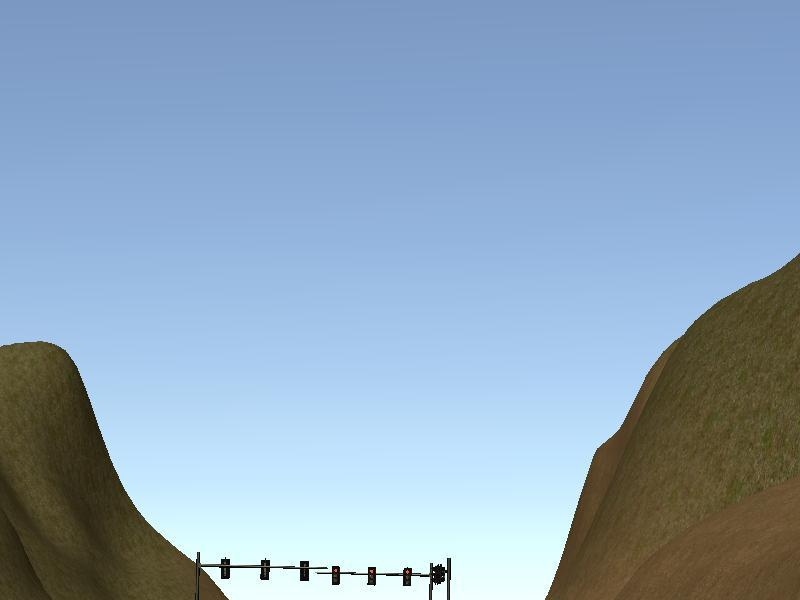Red: (331, 566, 340, 586), (403, 569, 411, 585), (368, 567, 375, 585)
